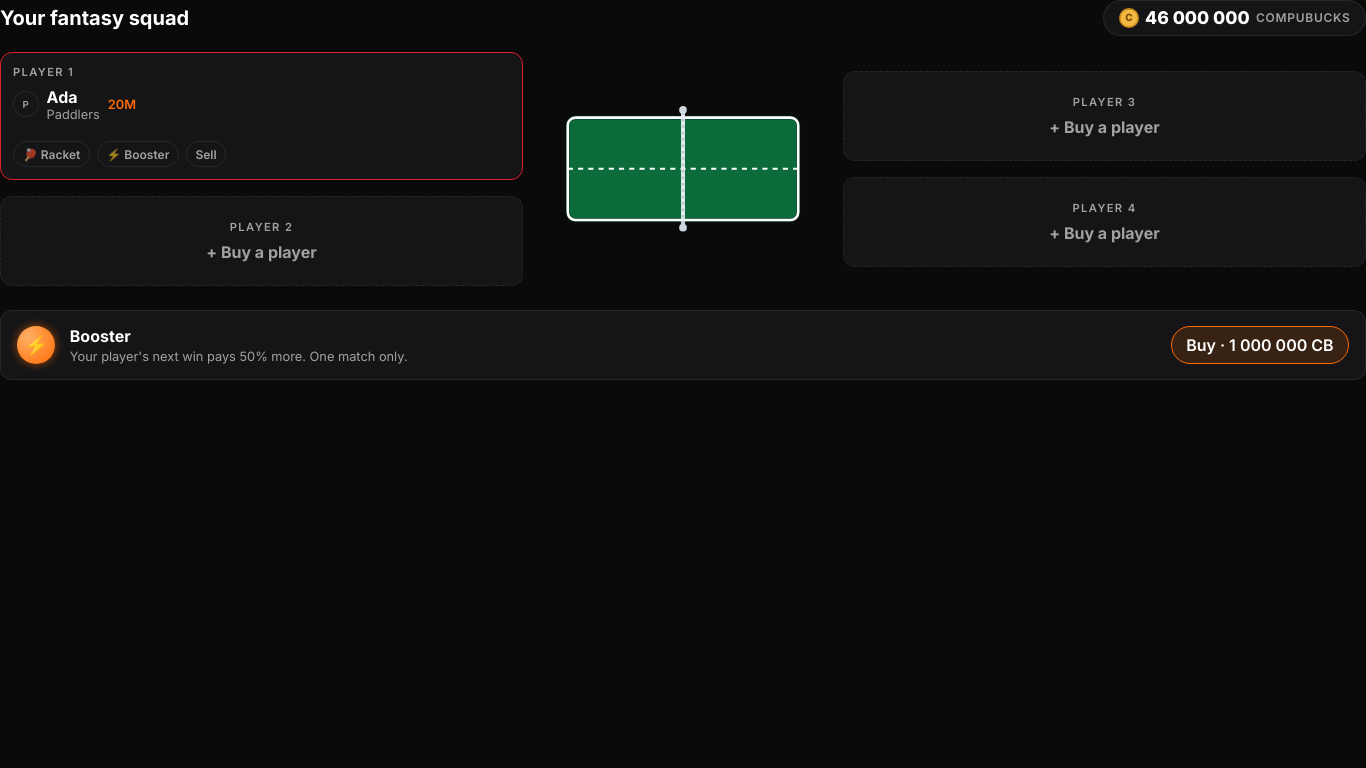
Test: FantasyTeam › opens the picker when an empty slot is clicked
The width and height of the screenshot is (1366, 768).
Step 1. Click the button "Player 2 + Buy a player" → (262, 241), box left=1, top=197, right=522, bottom=285
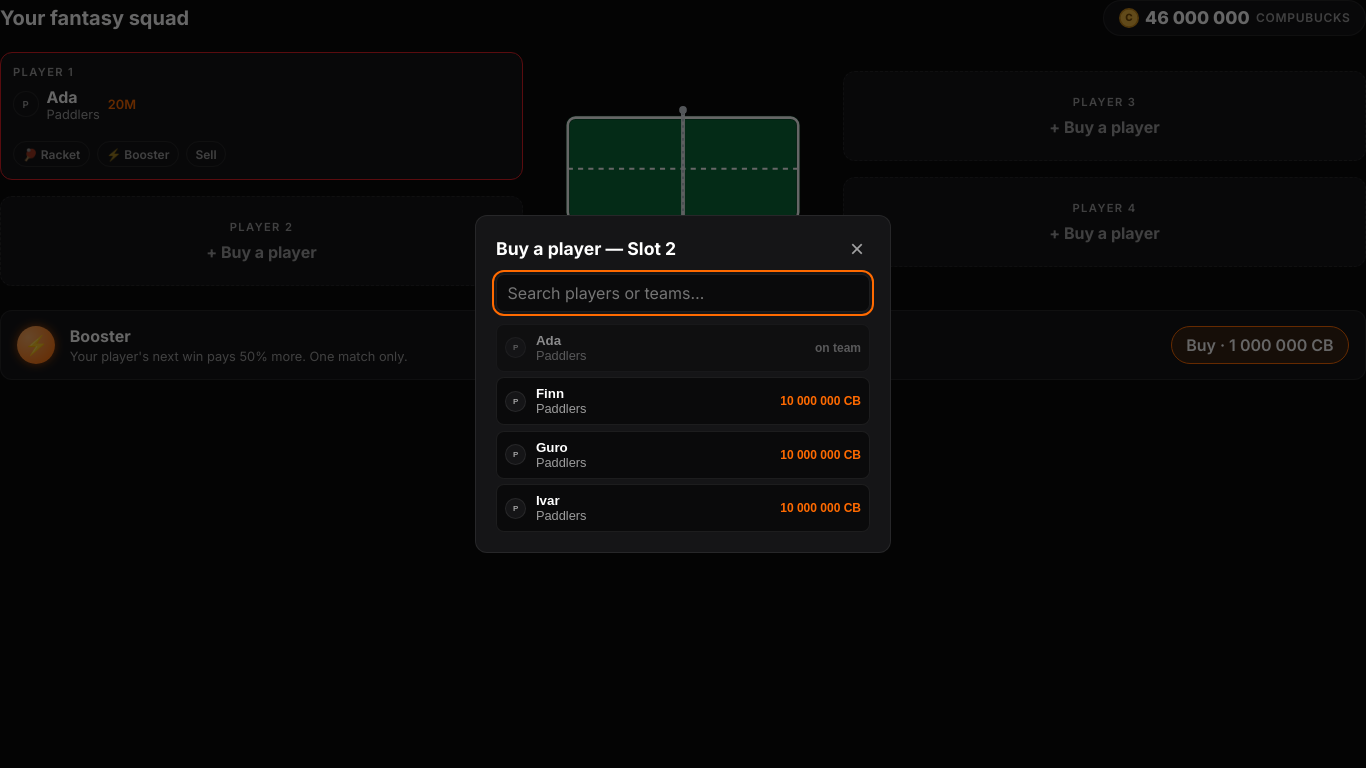
Expected: the dialog is shown
